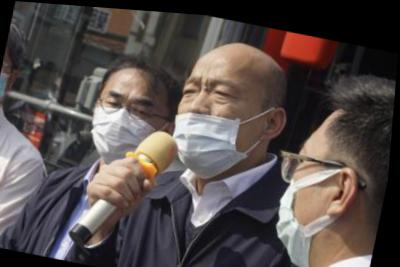OK: (269, 125, 346, 265), (86, 79, 170, 169), (31, 77, 64, 112)
WRONG: (168, 60, 264, 180)
